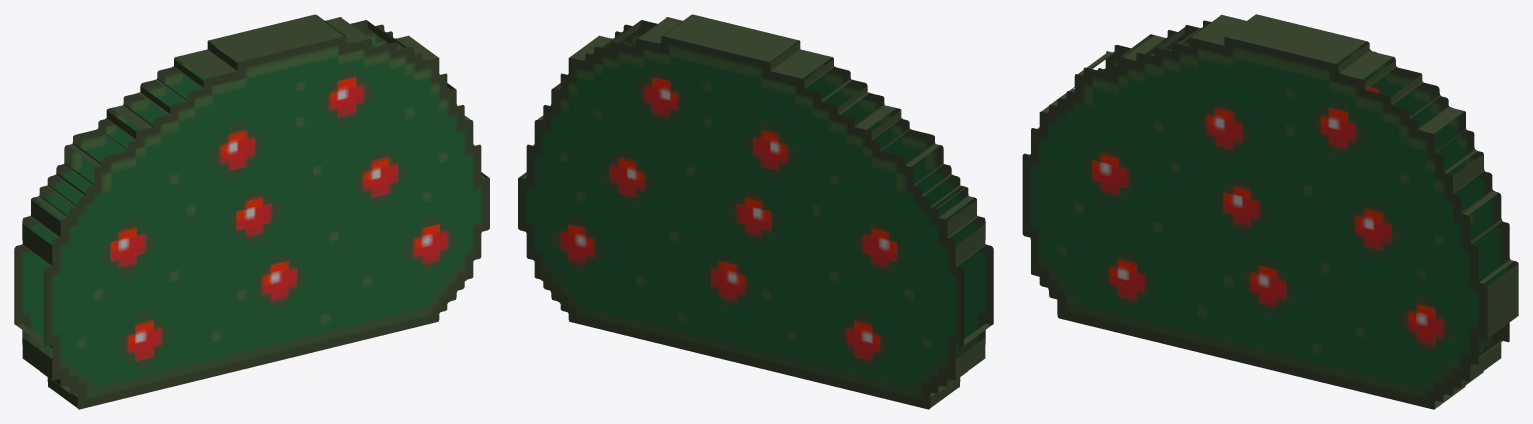
Rendered from Bush_01.fbx.
3 views of the same model, side by side, from view 1: azimuth 30°, elevation 25°; view 2: azimuth 150°, elevation 25°; view 3: azimuth 330°, elevation 25° (orthographic). The views are drawn at different scales.
Visible parts, largest first — view 1: objec-5_3000px.002; view 2: objec-5_3000px.002; view 3: objec-5_3000px.002.
Part boxes in pixels (x1=…): objec-5_3000px.002: x1=14, y1=14, x2=489, y2=409; objec-5_3000px.002: x1=518, y1=14, x2=993, y2=409; objec-5_3000px.002: x1=1022, y1=14, x2=1518, y2=409.
Size of the model in its own units: 17.67 by 11.68 by 2.05.
